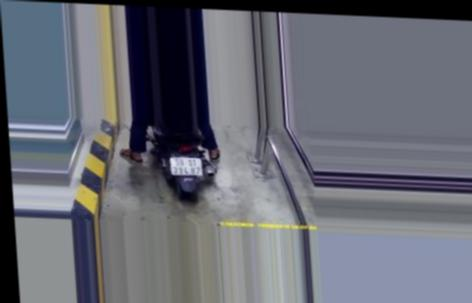License_Plate: (168, 153, 205, 180)
